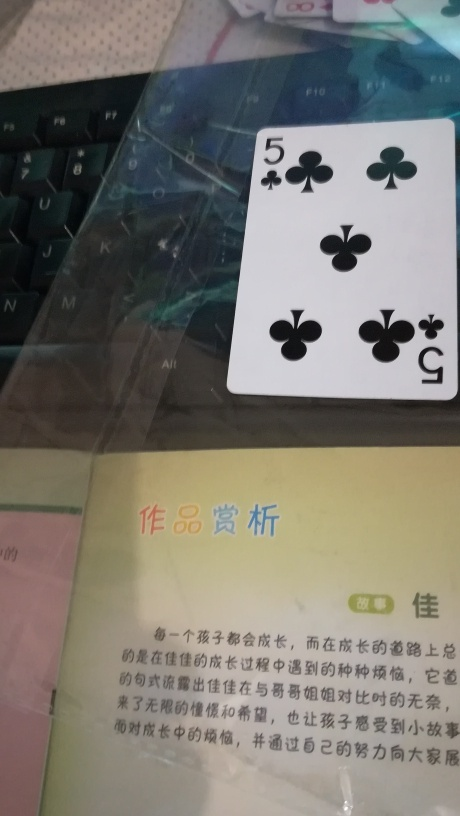mh 5: (226, 117, 460, 400)
